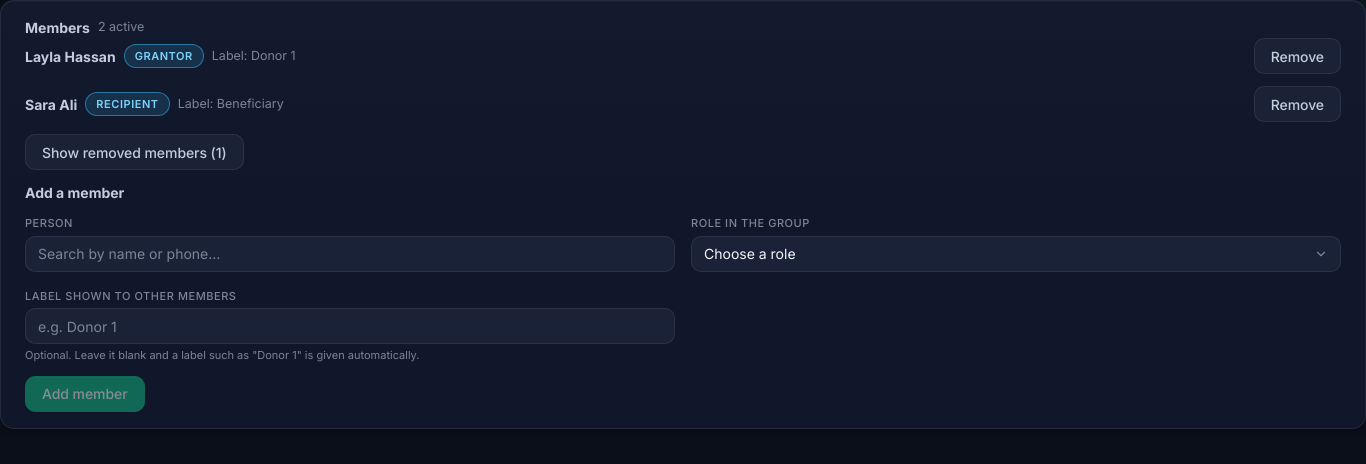
Test: GroupRoster — add › posts the picked person, role and trimmed label, then refreshes
Expected: the button "Add member" is disabled, [25,376,144,412]
Type "Noor Jabbar" into the dropdown with placeholder "Search by name or phone…" at x=350, y=254, box [25,236,675,272]
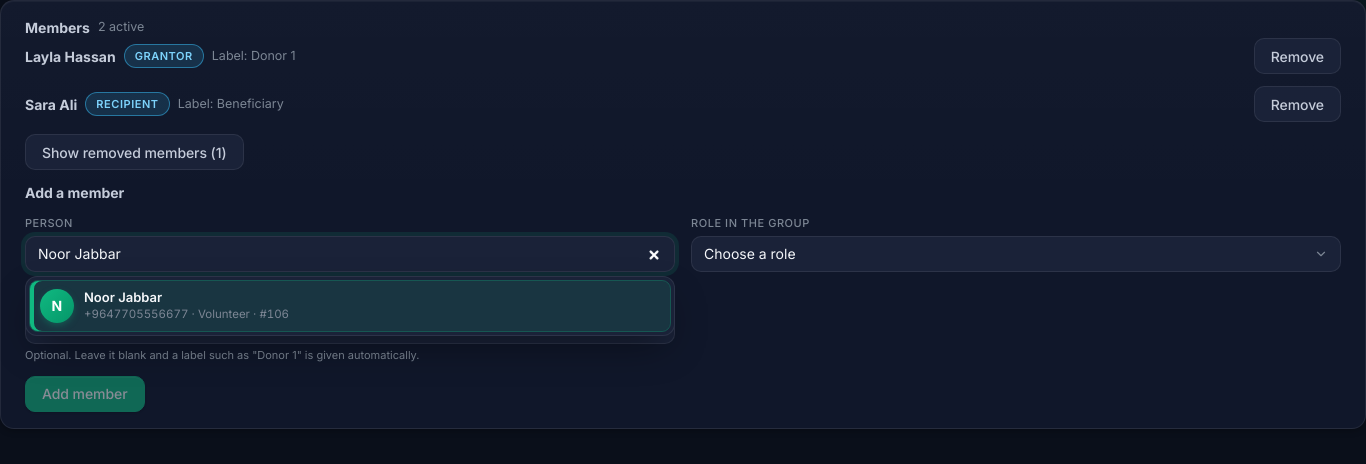
Click the option "N Noor Jabbar +9647705556677 · Volunteer · #106" at x=57, y=306, box [30,280,670,331]
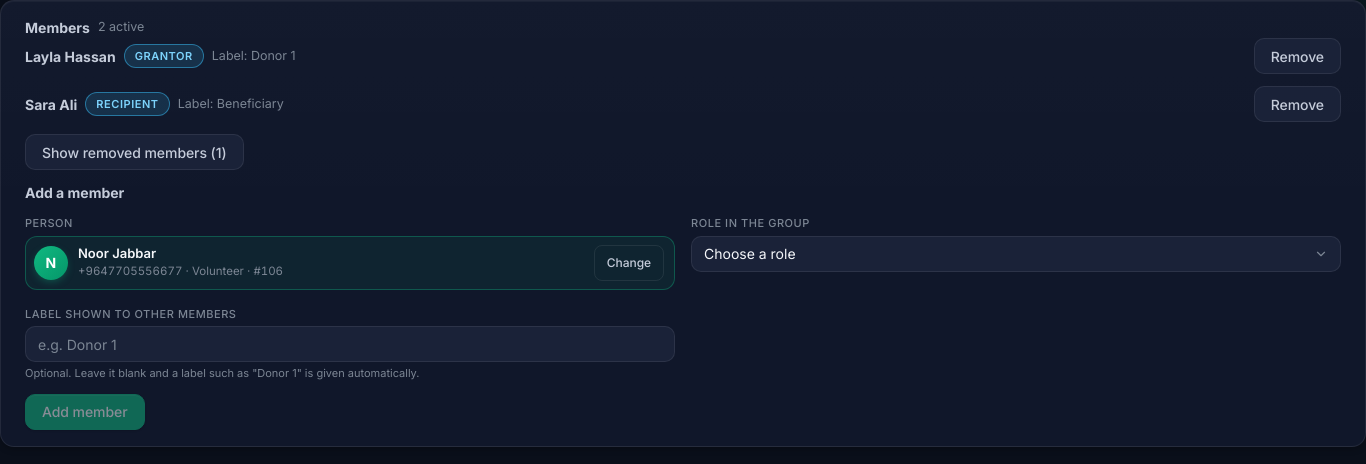
Select "Volunteer" in the dropdown labelled "Role in the group" at x=1016, y=254, box [691,236,1341,272]
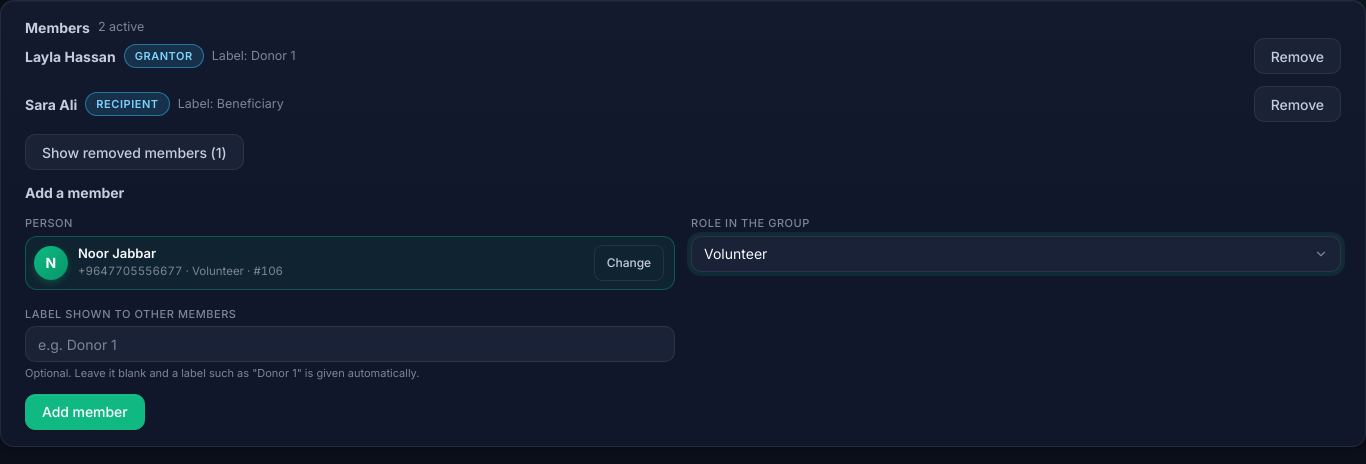
Type " Helper " into the field labelled "Label shown to other members" at x=350, y=344, box [25,326,675,362]
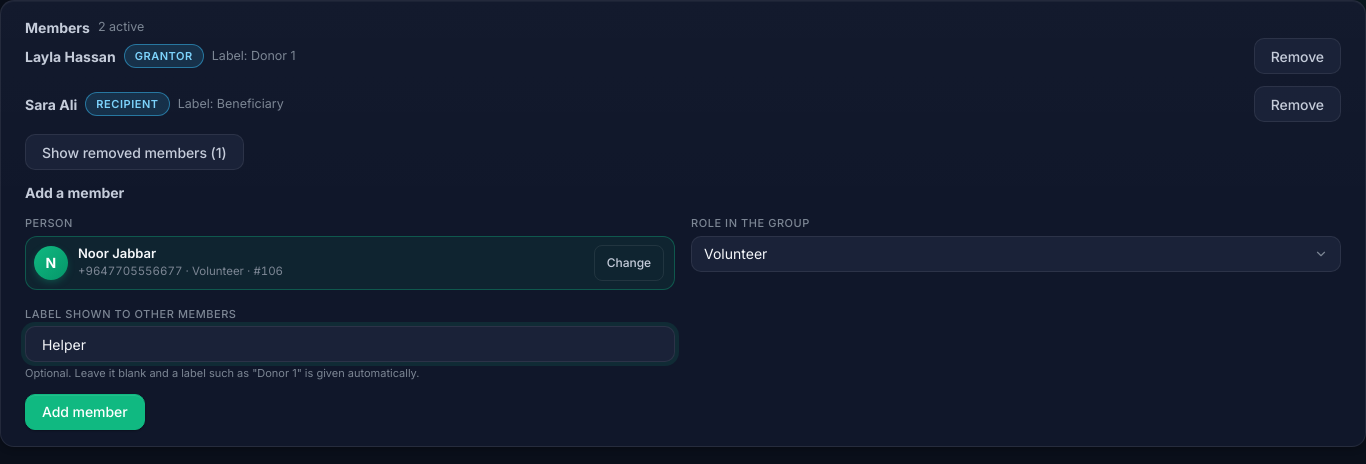
Click the button "Add member" at x=85, y=412, box [25,394,144,430]
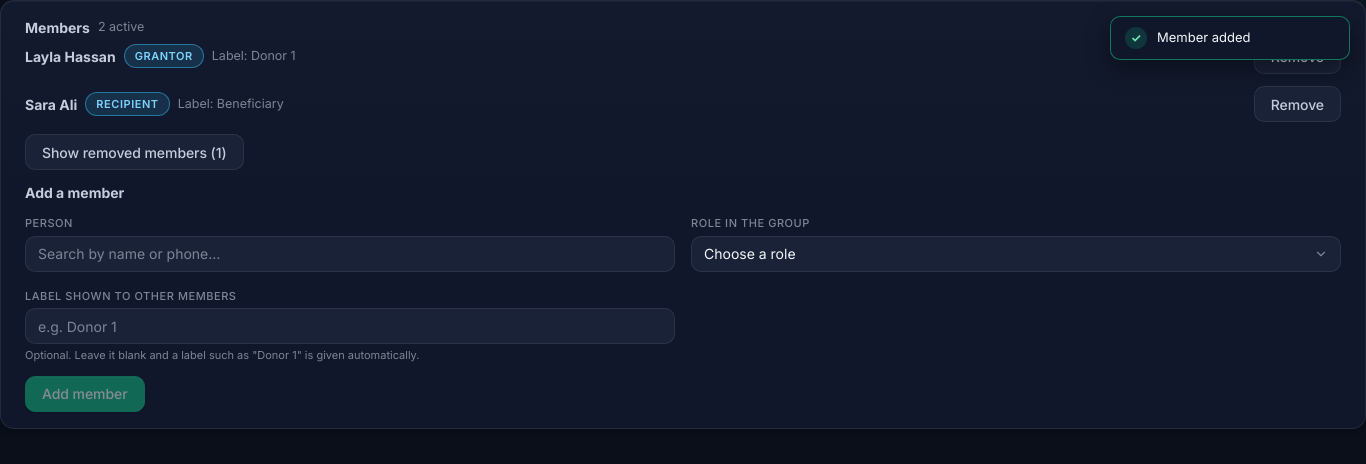
Expected: the text "Member added" is shown, [1157,28,1251,48]
